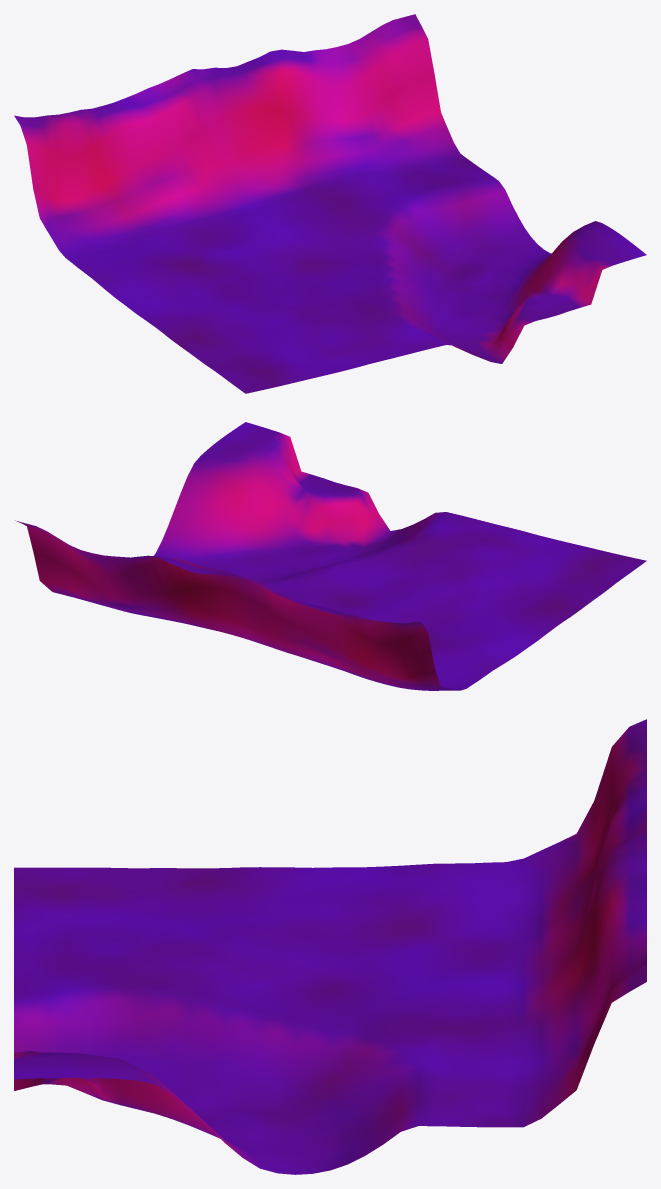
The model's file is ground_01.glb.
3 views of the same model, one above another, from view 1: azimuth 30°, elevation 25°; view 2: azimuth 150°, elevation 25°; view 3: azimuth 270°, elevation 25° (orthographic). The views are drawn at different scales.
Parts seen in each view (by area): view 1: Ground_01; view 2: Ground_01; view 3: Ground_01.
Boxes of the visible parts, x1,y1,x2,y2 form: Ground_01: (14, 14, 646, 393); Ground_01: (15, 422, 646, 690); Ground_01: (14, 719, 646, 1174).
Size of what is drawn, in the model's own units: 36 by 12.5 by 36.
